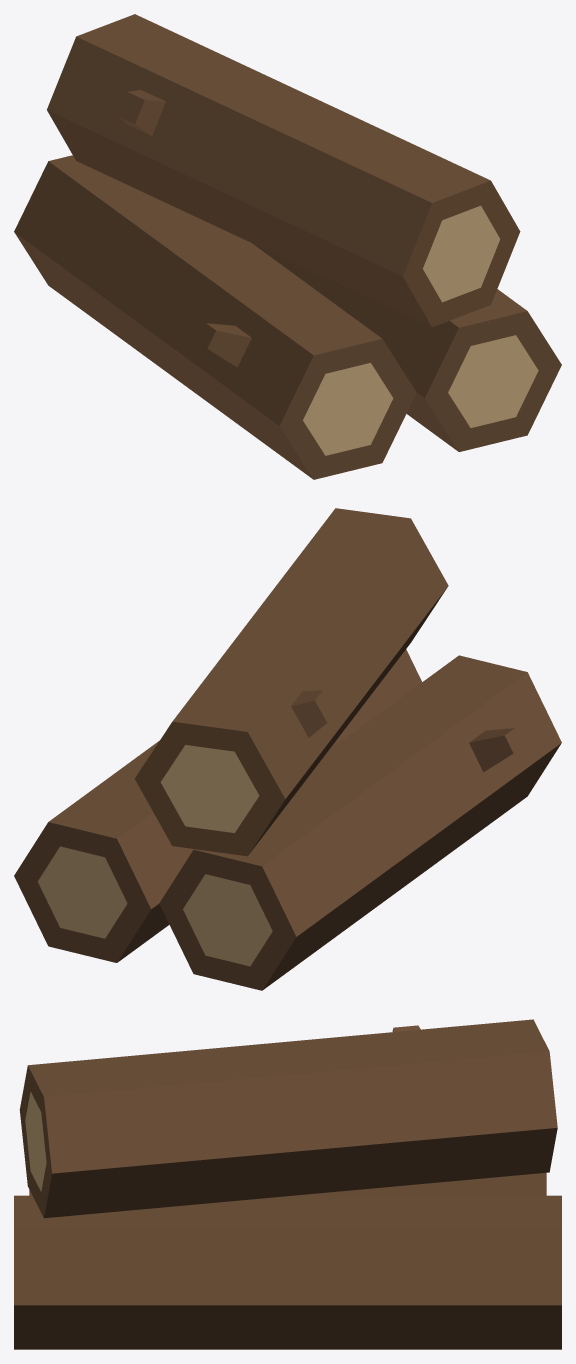
Rendered from log_stack.glb.
3 renders of one model, top to bottom at view 1: azimuth 30°, elevation 25°; view 2: azimuth 150°, elevation 25°; view 3: azimuth 270°, elevation 25°, orthographic. The views are drawn at different scales.
Visible parts, largest first — view 1: log_stack; view 2: log_stack; view 3: log_stack.
Part boxes in pixels (x1,y1,x2,y2): log_stack: [14, 14, 561, 479]; log_stack: [14, 508, 561, 990]; log_stack: [14, 1019, 561, 1349].
Bounding box in the file's own units: 1.27 × 1.04 × 2.13.
